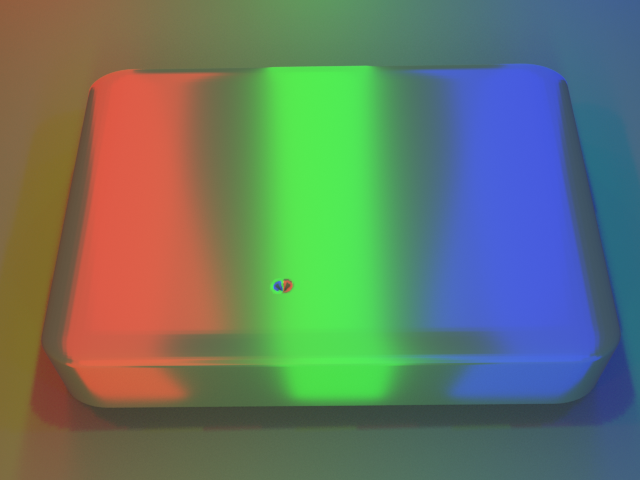dent: (259, 270, 300, 309)
